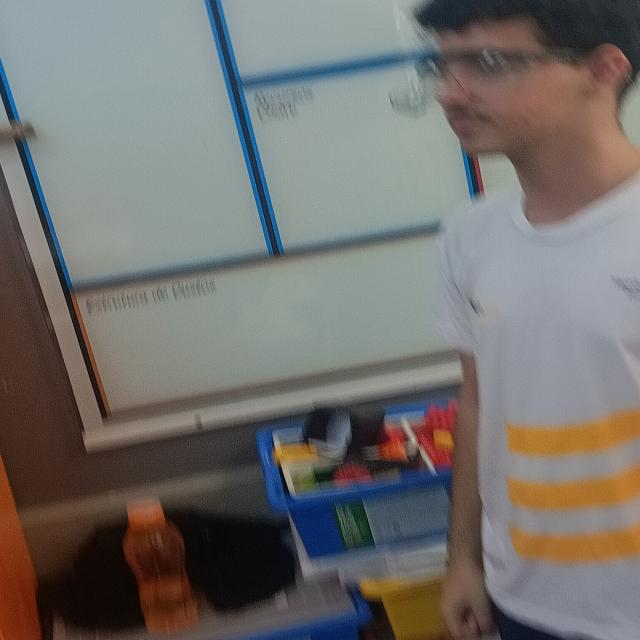oculos-epi: (412, 47, 597, 93)
